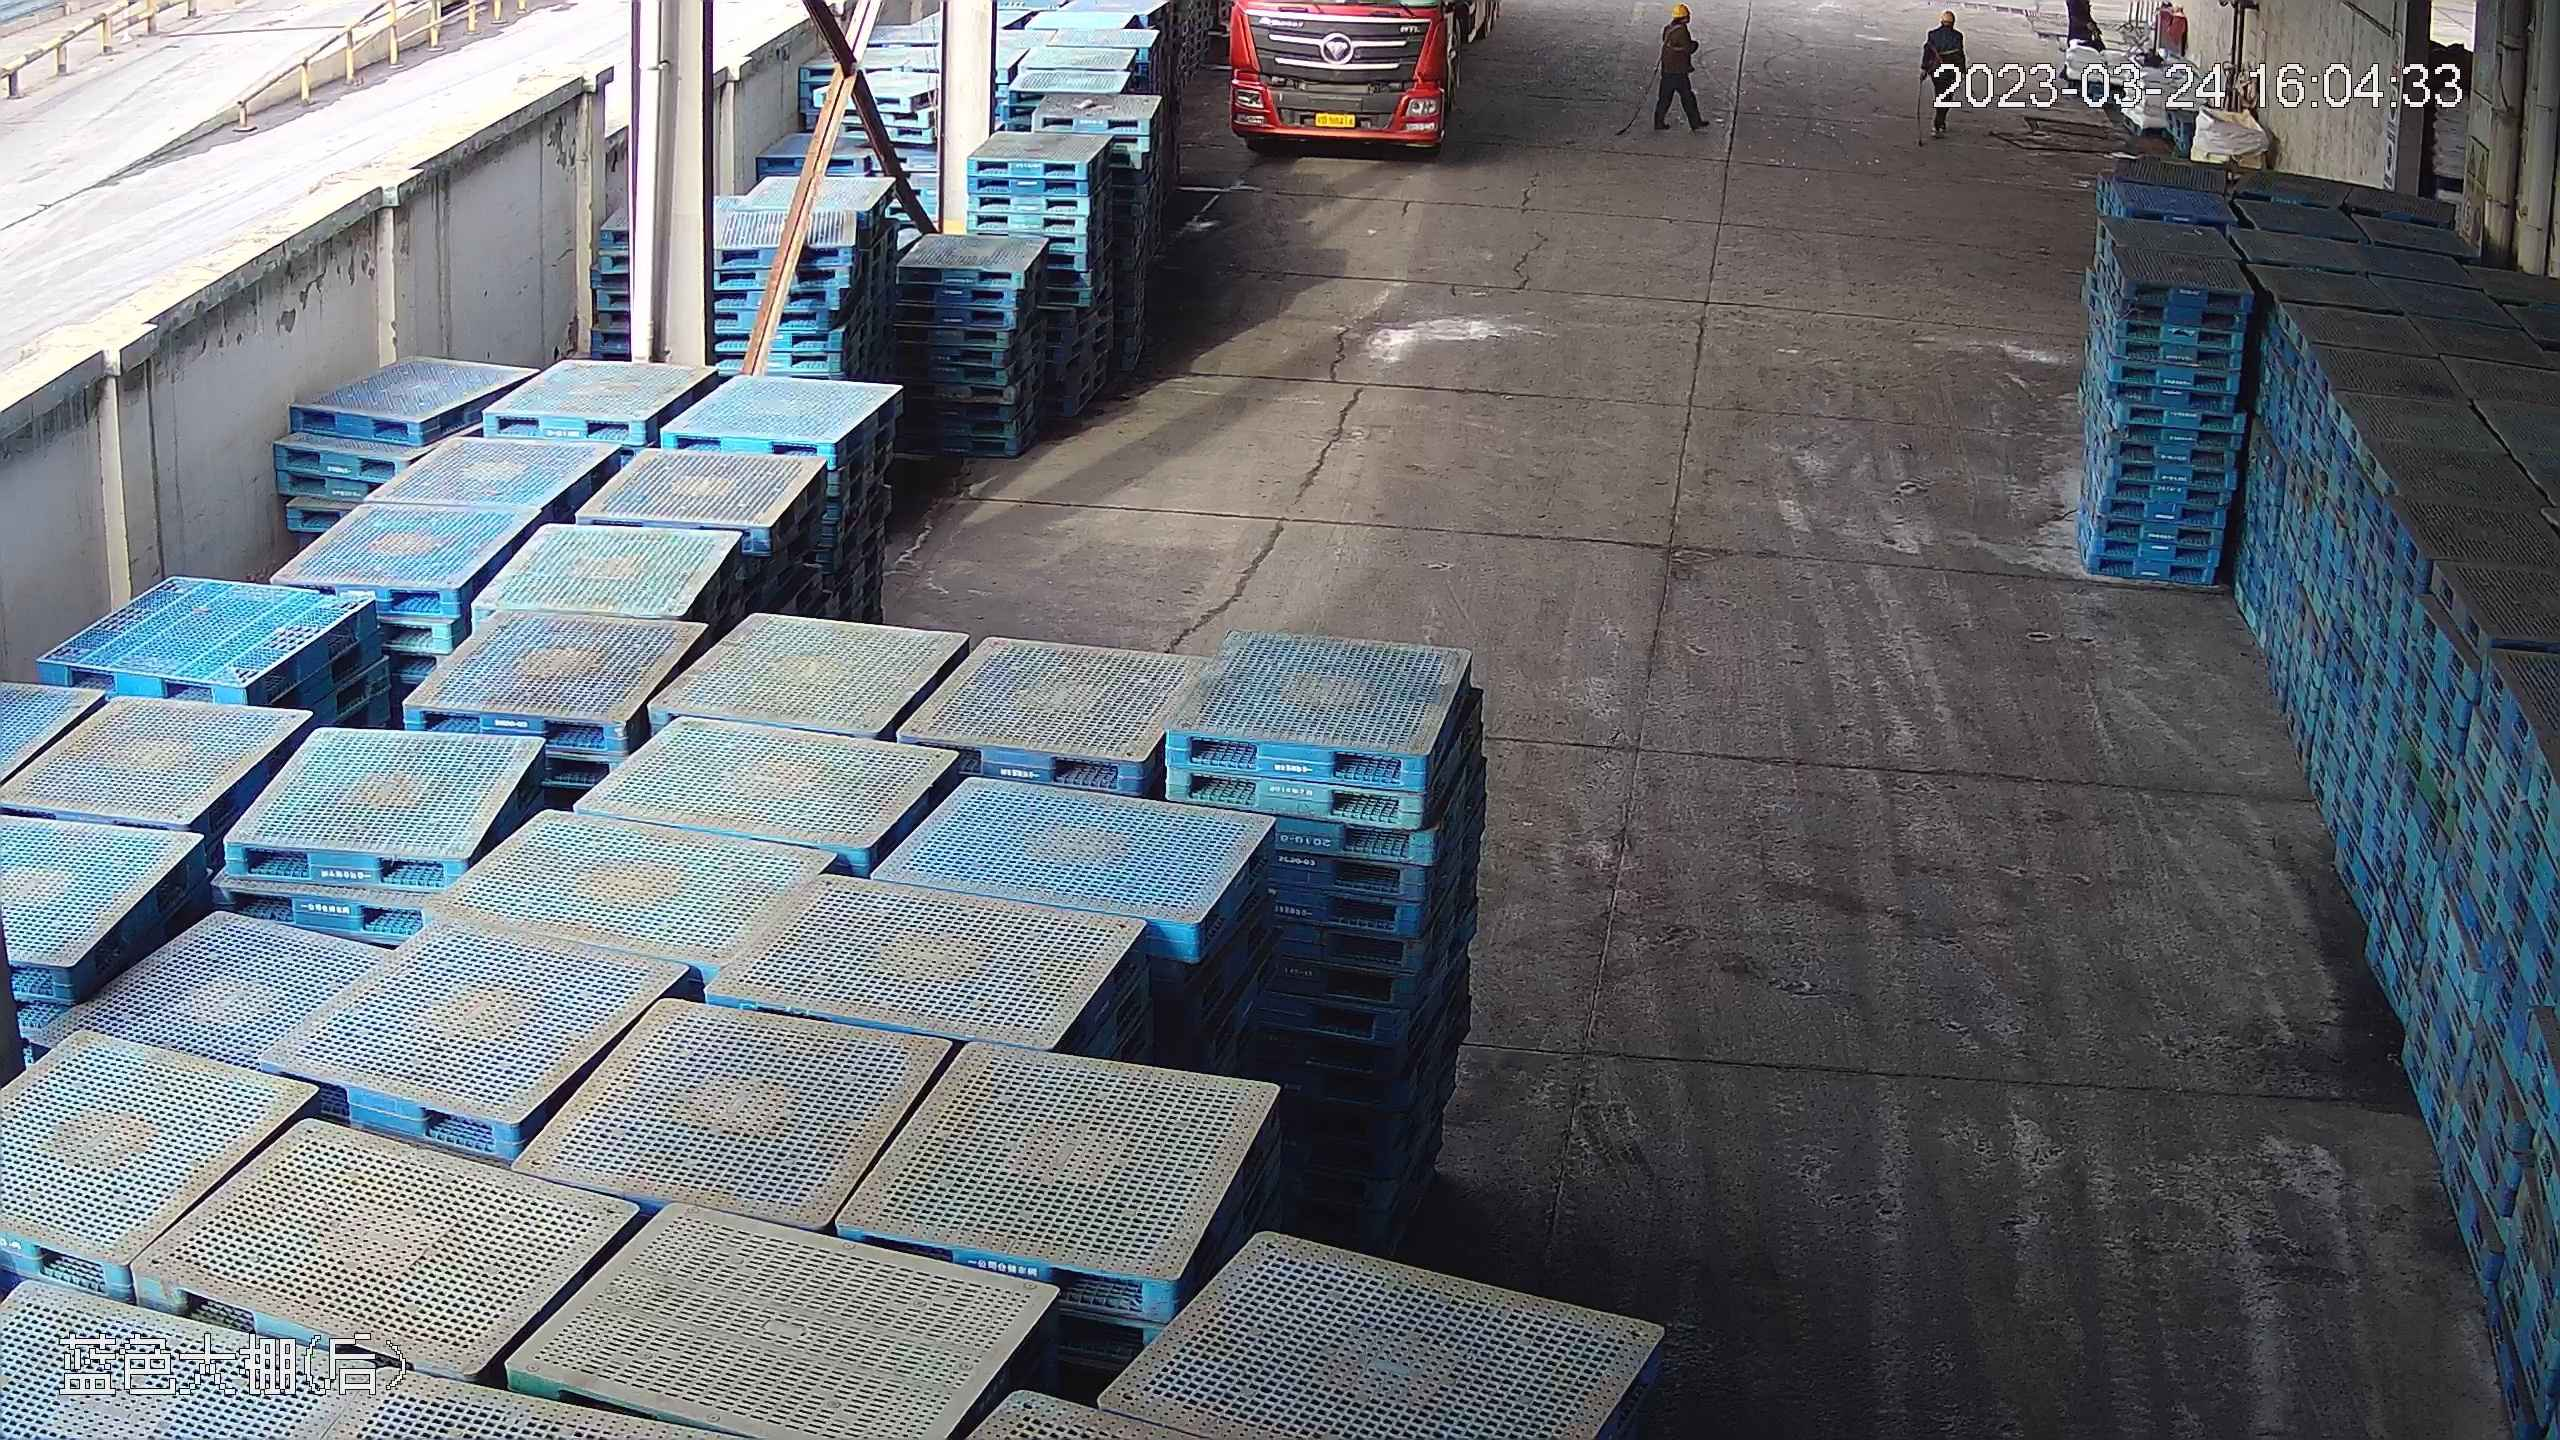head: (1658, 1, 1701, 46), (1921, 6, 1963, 48)
helmet: (1665, 1, 1689, 17), (1938, 8, 1956, 22)
people: (1648, 1, 1708, 133), (1914, 3, 1965, 141)
truck: (1223, 1, 1499, 147)
